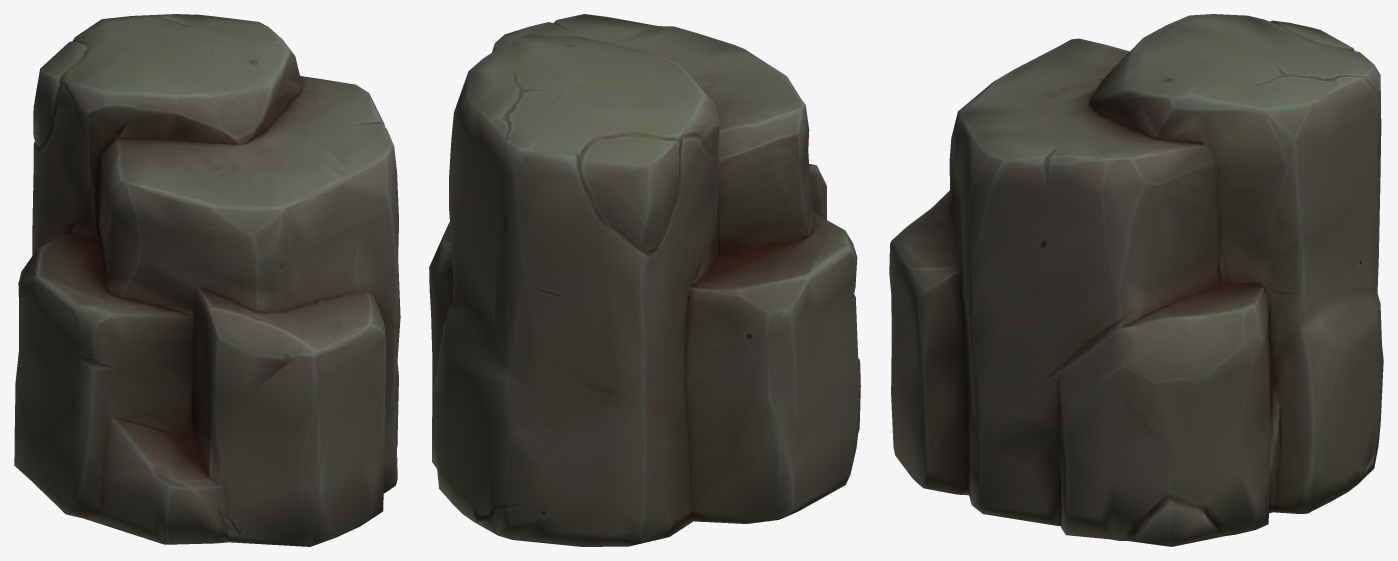
Rendered from ROK0110022.fbx.
3 views of the same model, side by side, from view 1: azimuth 30°, elevation 25°; view 2: azimuth 150°, elevation 25°; view 3: azimuth 270°, elevation 25° (orthographic). The views are drawn at different scales.
Visible parts, largest first — view 1: smROK0110022; view 2: smROK0110022; view 3: smROK0110022.
Part boxes in pixels (x1=…): smROK0110022: x1=14, y1=14, x2=400, y2=546; smROK0110022: x1=429, y1=14, x2=860, y2=546; smROK0110022: x1=889, y1=14, x2=1383, y2=546.
Size of the model in its own units: 276 by 294 by 321.
1 material, 1 textured.
